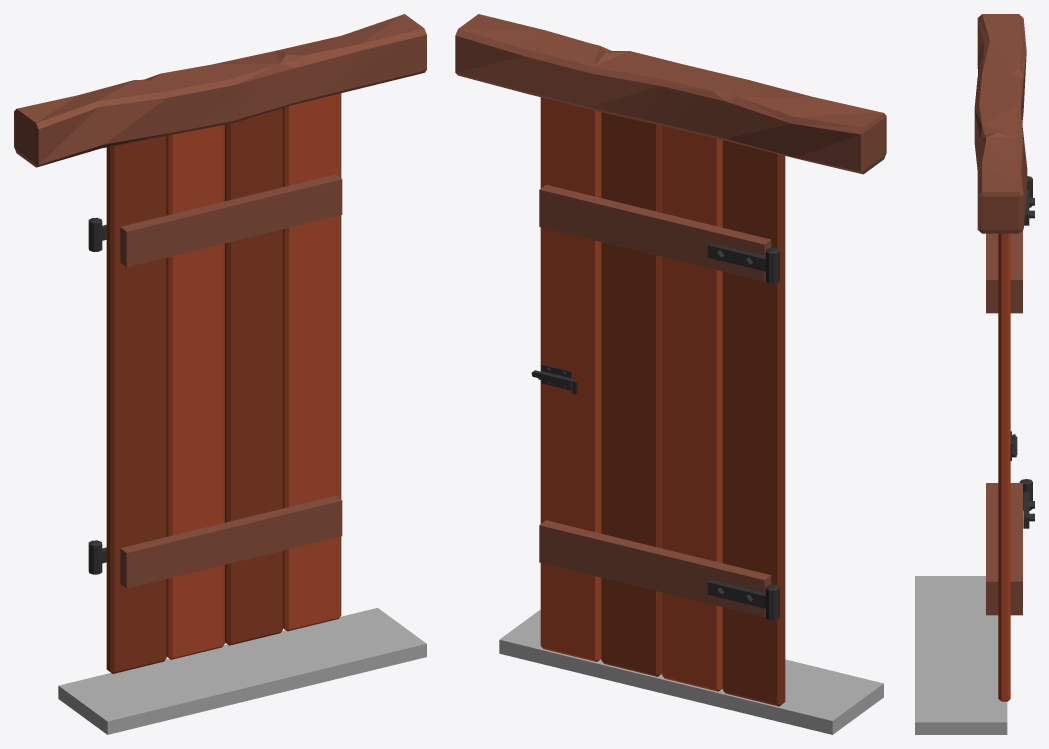
Rendered from service door.fbx.
3 views of the same model, side by side, from view 1: azimuth 30°, elevation 25°; view 2: azimuth 150°, elevation 25°; view 3: azimuth 270°, elevation 25° (orthographic). The views are drawn at different scales.
Visible parts, largest first — view 1: Porta_secondaria, Trave, scalino; view 2: Porta_secondaria, Trave, scalino; view 3: scalino, Porta_secondaria, Trave.
Boxes of the visible parts, box(x1,y1,x2,y2) form: Porta_secondaria: box(88, 93, 342, 673); Trave: box(14, 14, 426, 167); scalino: box(58, 608, 426, 734); Porta_secondaria: box(531, 97, 785, 706); Trave: box(455, 14, 886, 174); scalino: box(499, 609, 883, 734); scalino: box(915, 576, 1007, 734); Porta_secondaria: box(986, 176, 1034, 701); Trave: box(974, 14, 1027, 233).
Bounding box in the file's own units: 137 × 201 × 38.92.
